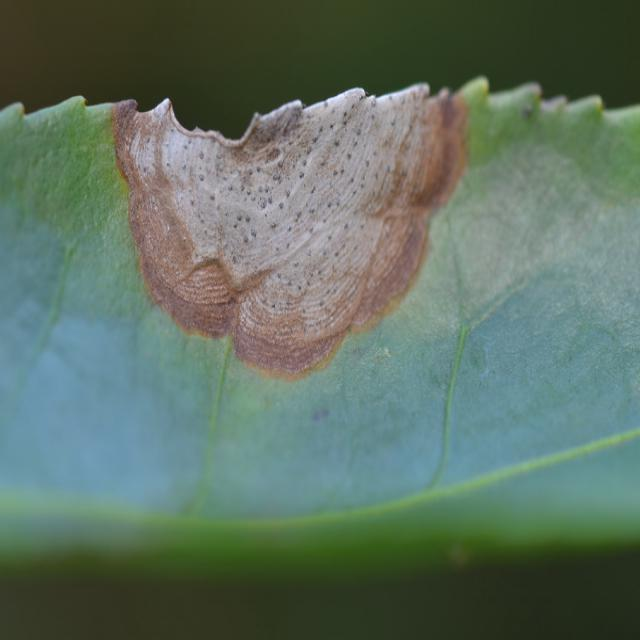Tea cloud leaf blight: (115, 68, 458, 365)
